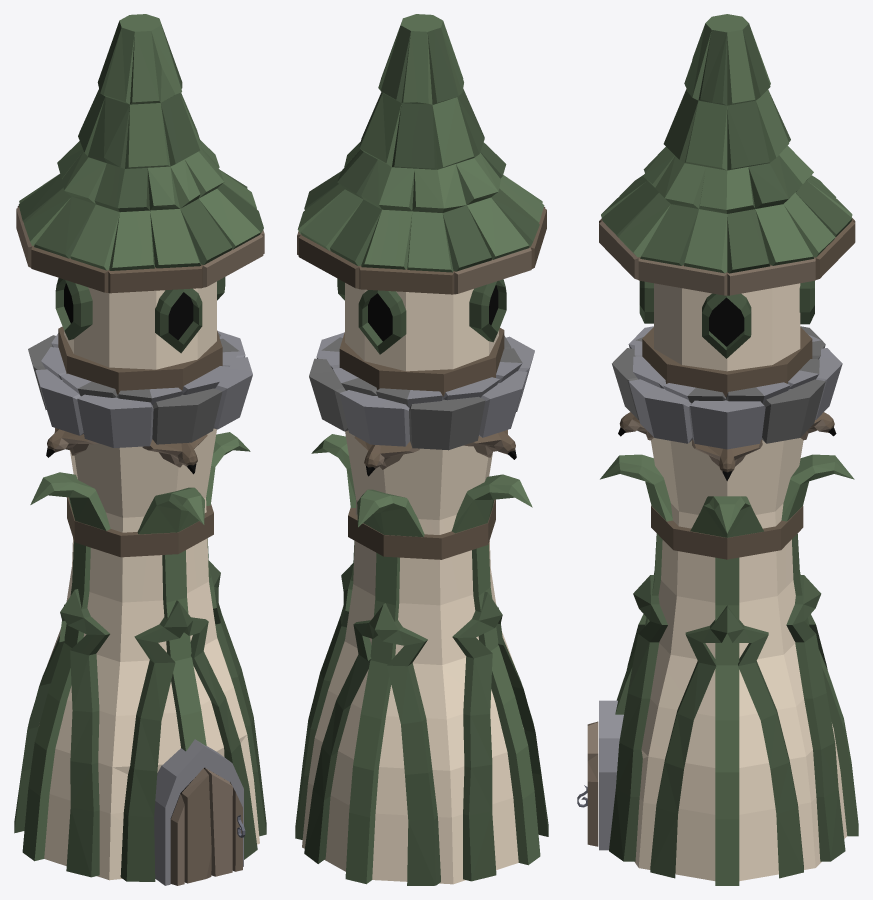
The model's file is _archer_tower_LVL_2.fbx.
3 renders of one model, left to right at view 1: azimuth 30°, elevation 25°; view 2: azimuth 150°, elevation 25°; view 3: azimuth 270°, elevation 25°, orthographic.
Visible parts, largest first — view 1: archer_tower_LVL_2; view 2: archer_tower_LVL_2; view 3: archer_tower_LVL_2.
Boxes of the visible parts, x1,y1,x2,y2 form: archer_tower_LVL_2: (14,14,266,885); archer_tower_LVL_2: (295,14,548,885); archer_tower_LVL_2: (577,14,858,885).
Size of the model in its own units: 434 by 1494 by 472.
